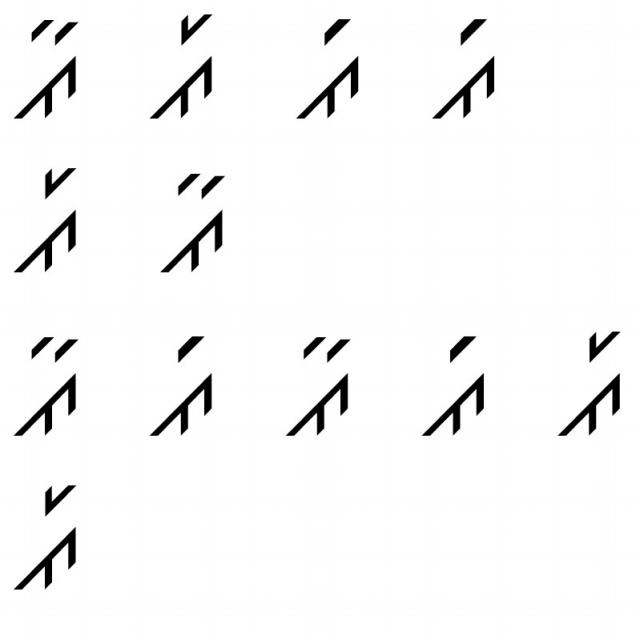kan: (271, 316, 357, 452), (12, 324, 92, 443), (5, 7, 86, 124), (158, 165, 238, 278)
kang: (410, 321, 498, 448), (287, 8, 369, 130), (422, 8, 502, 131), (134, 328, 218, 443)
kar: (546, 318, 633, 450), (9, 152, 90, 280), (136, 5, 220, 124), (14, 471, 92, 593)
